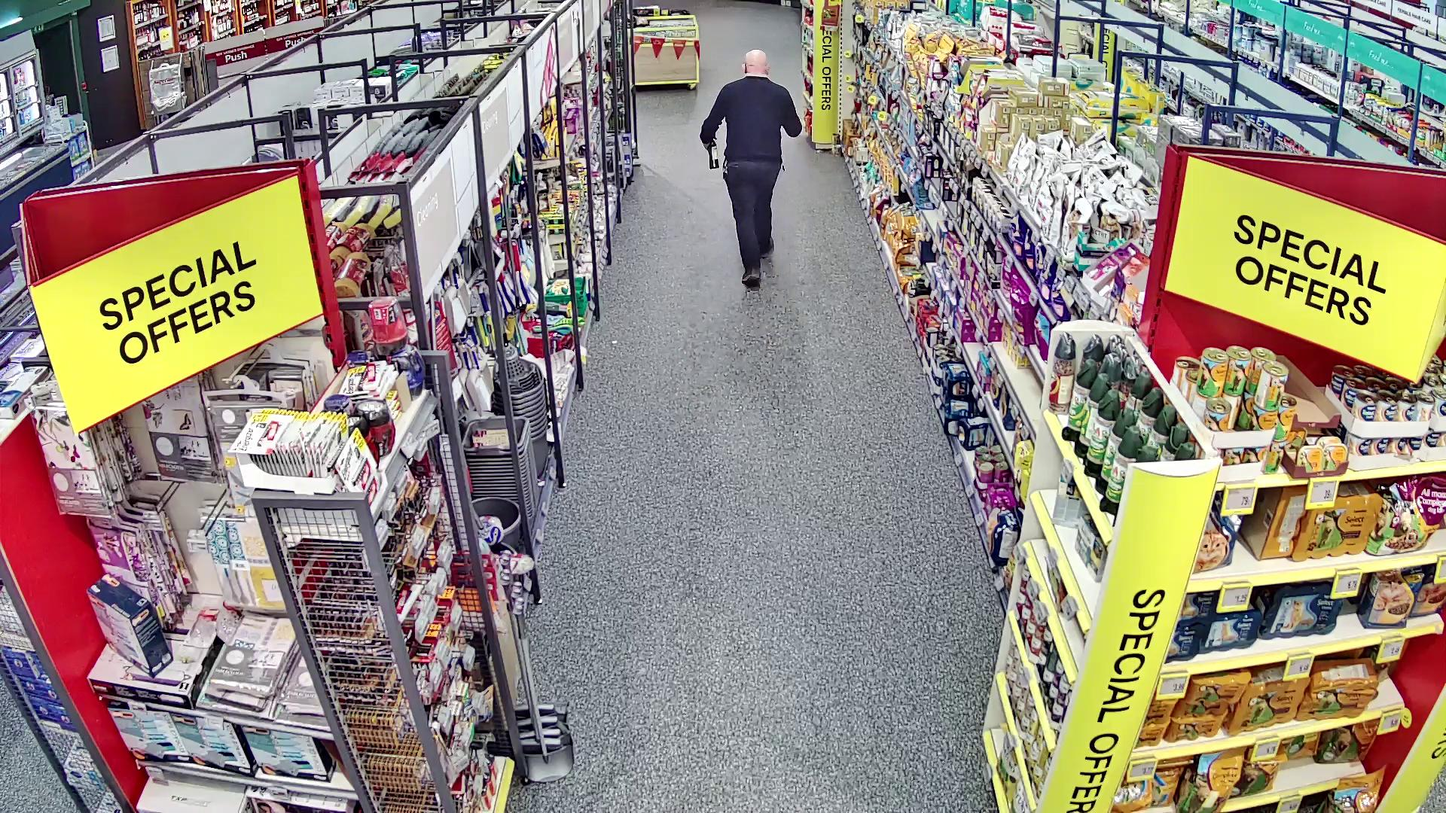carrying-item: (703, 135, 719, 170)
person: (700, 49, 803, 283)
person-with-carrying-item: (700, 48, 802, 284)
